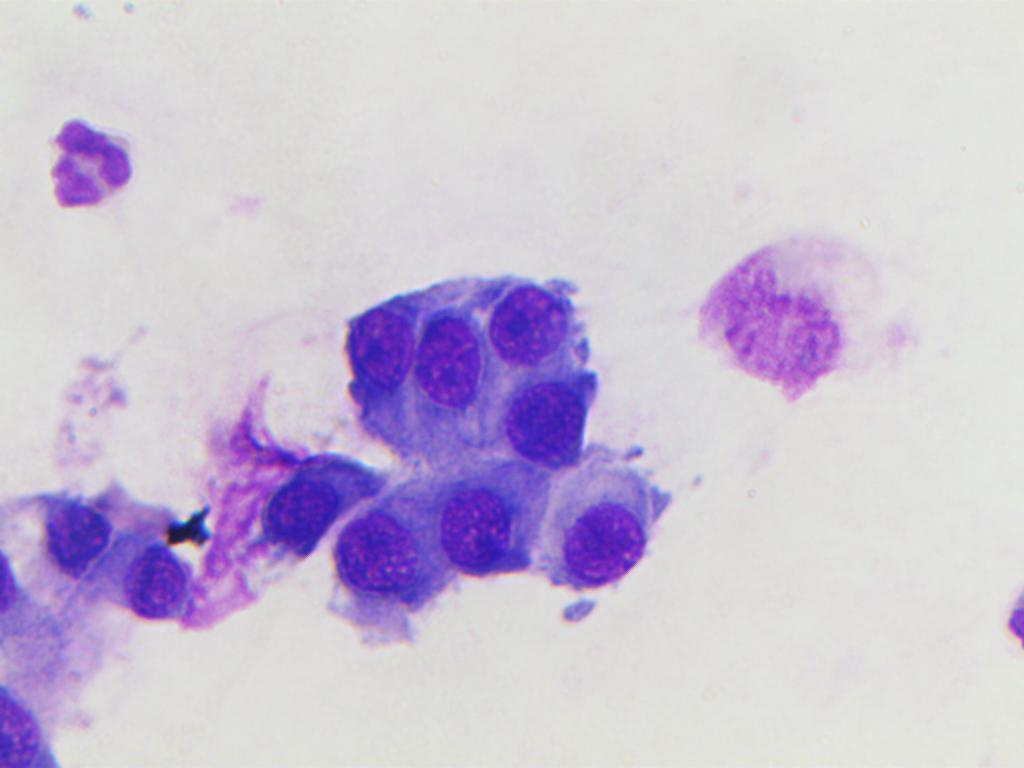artifact: (153, 508, 221, 543)
epithelial: (541, 468, 663, 595), (482, 381, 615, 474), (329, 500, 435, 610), (483, 272, 592, 369), (438, 474, 522, 592), (413, 302, 486, 411), (341, 300, 414, 407), (104, 544, 187, 636)
neutrophil: (33, 113, 139, 210)
